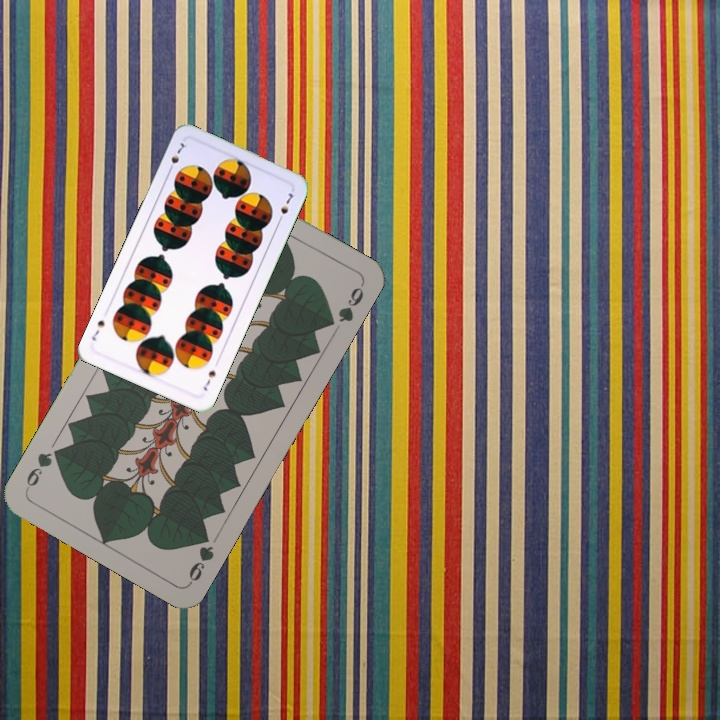G9: (185, 527, 217, 586)
S7: (164, 138, 190, 175), (199, 366, 218, 394)
